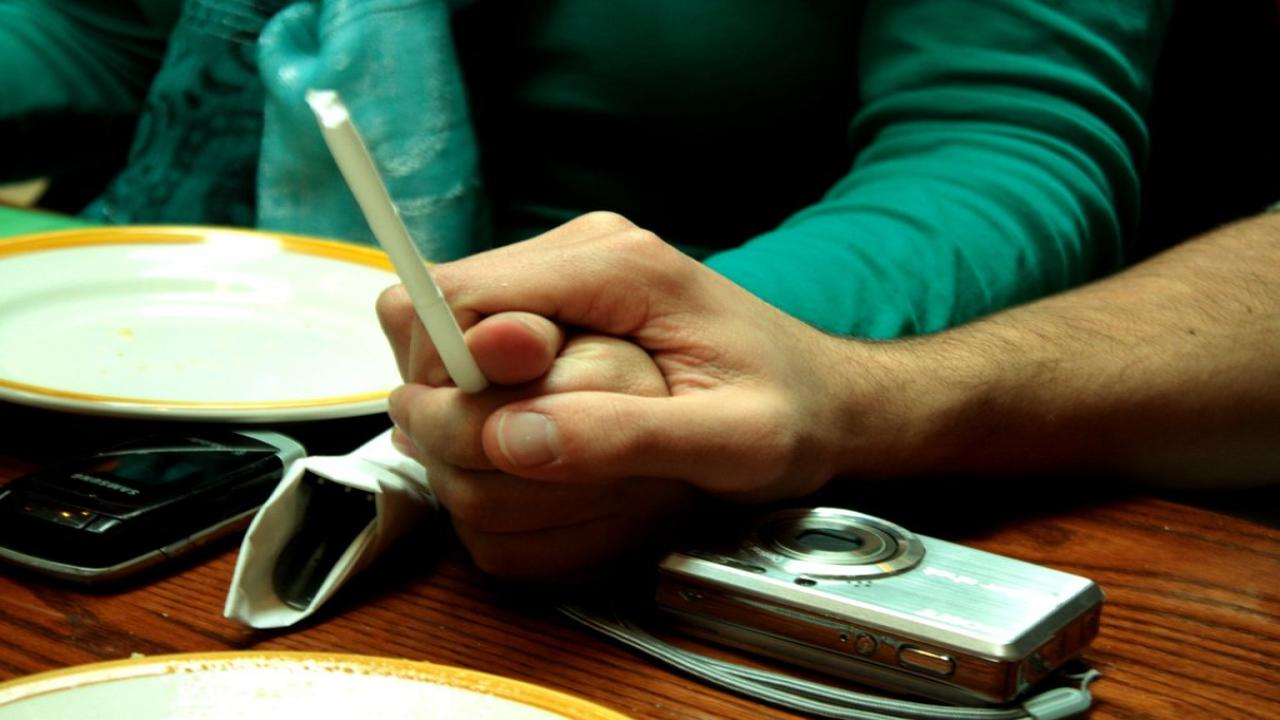chopstick: (308, 89, 488, 392)
